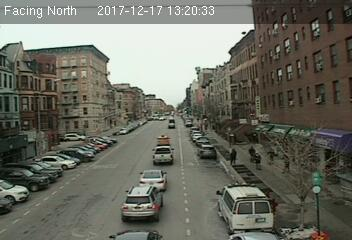car: (119, 185, 166, 223), (137, 169, 170, 191), (152, 145, 174, 165), (199, 145, 216, 159), (156, 135, 171, 146)
pedestrian: (228, 148, 238, 164)
police: (214, 181, 276, 237)
